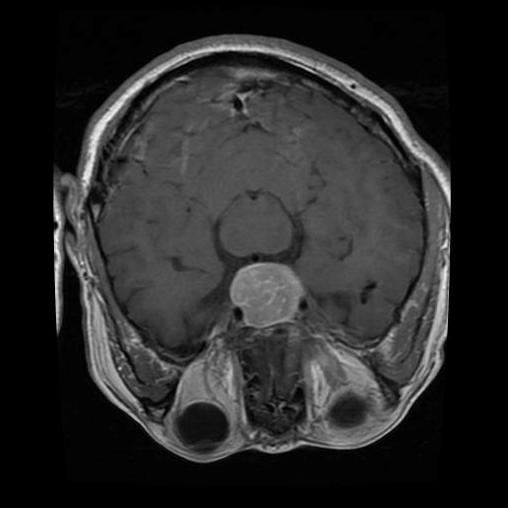Tumour-Pituitary: (226, 259, 309, 332)
